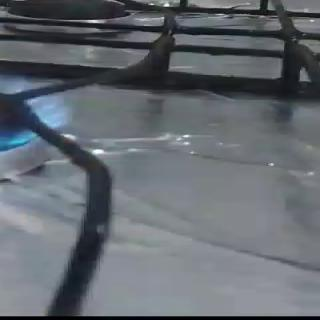fire: (0, 0, 74, 156)
